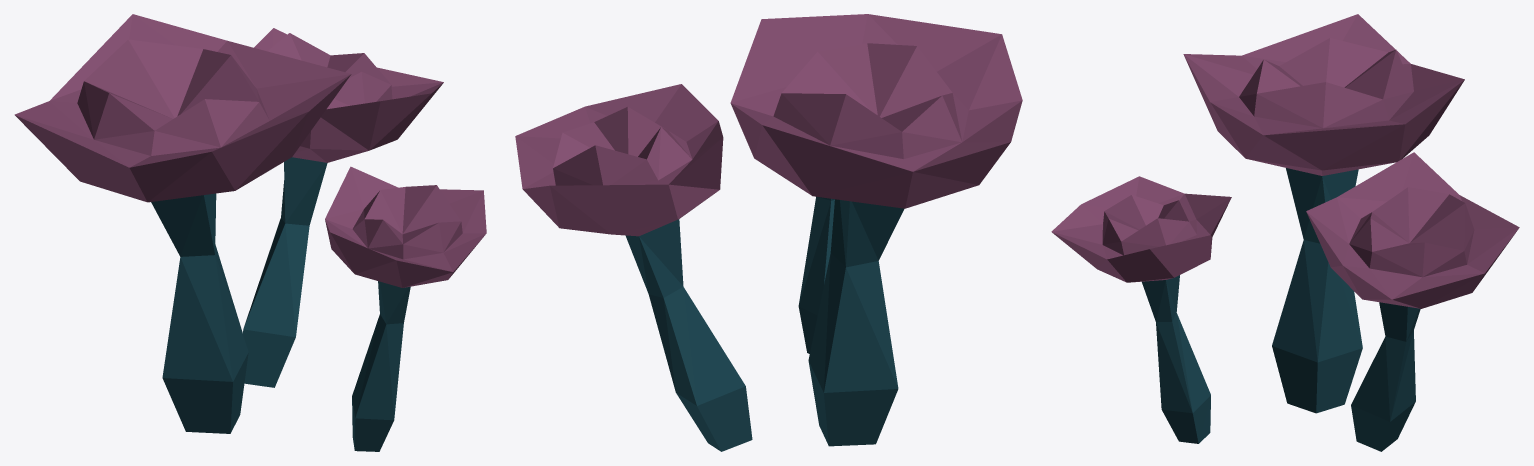
File: SM_Env_Flower_05.fbx
3 renders of one model, left to right at view 1: azimuth 30°, elevation 25°; view 2: azimuth 150°, elevation 25°; view 3: azimuth 270°, elevation 25°, orthographic. The views are drawn at different scales.
Visible parts, largest first — view 1: SM_Env_Flower_05; view 2: SM_Env_Flower_05; view 3: SM_Env_Flower_05.
Part boxes in pixels (<box>): SM_Env_Flower_05: <box>14,14,486,451</box>; SM_Env_Flower_05: <box>515,14,1022,451</box>; SM_Env_Flower_05: <box>1051,14,1519,451</box>.
Size of the model in its own units: 0.00493 by 0.00387 by 0.00483.
Materials: 1 (1 with a texture image).
